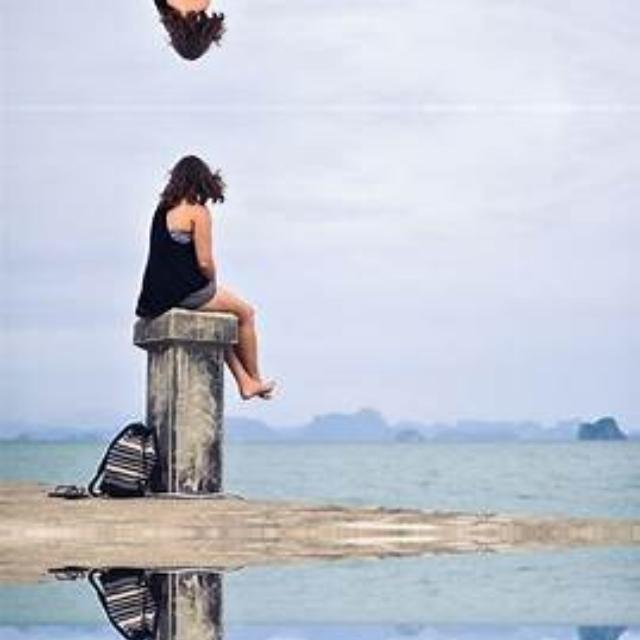person: (138, 148, 294, 404), (138, 0, 293, 65)
